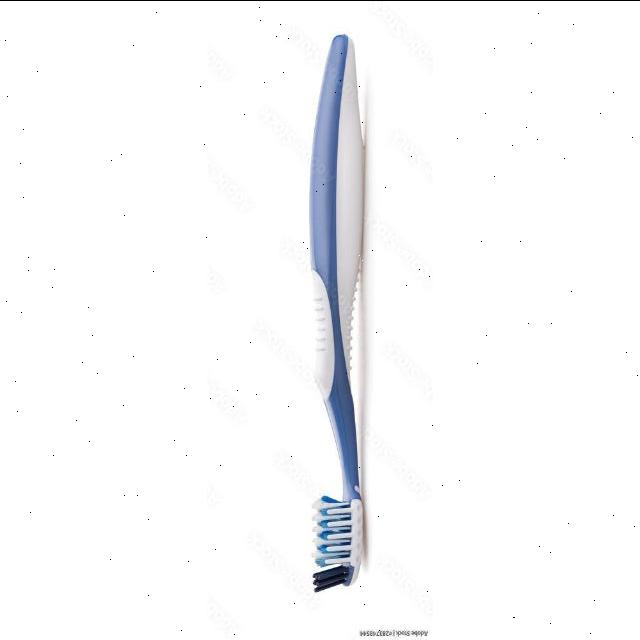toothbrush: (286, 17, 396, 605)
